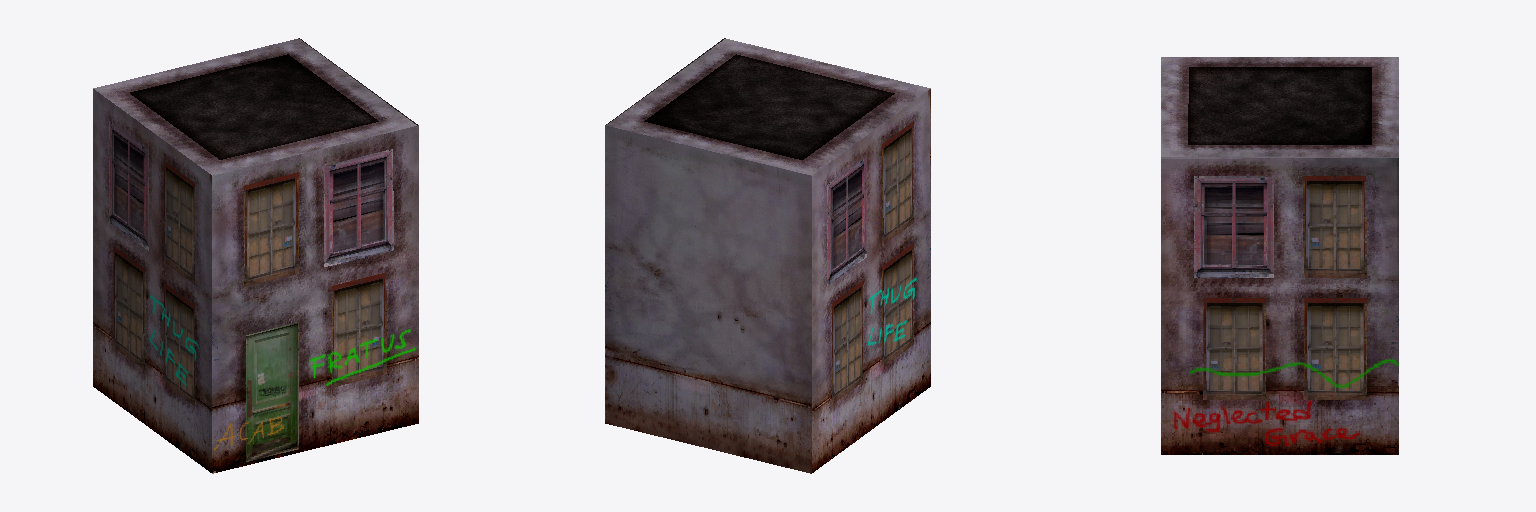
The picture shows the model from 3 angles: view 1: azimuth 30°, elevation 25°; view 2: azimuth 150°, elevation 25°; view 3: azimuth 270°, elevation 25°; orthographic projection.
Parts seen in each view (by area): view 1: house_01; view 2: house_01; view 3: house_01.
Boxes of the visible parts, x1=… form: house_01: x1=93, y1=38, x2=418, y2=473; house_01: x1=605, y1=38, x2=930, y2=473; house_01: x1=1161, y1=57, x2=1398, y2=454.
Bounding box in the file's own units: 2 × 2.76 × 2.
1 materials, 1 textured.